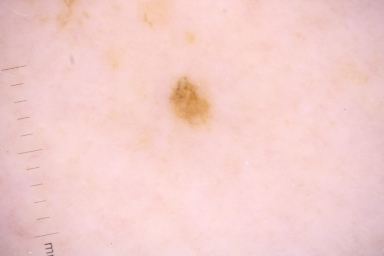melanoma: (169, 74, 211, 132)
